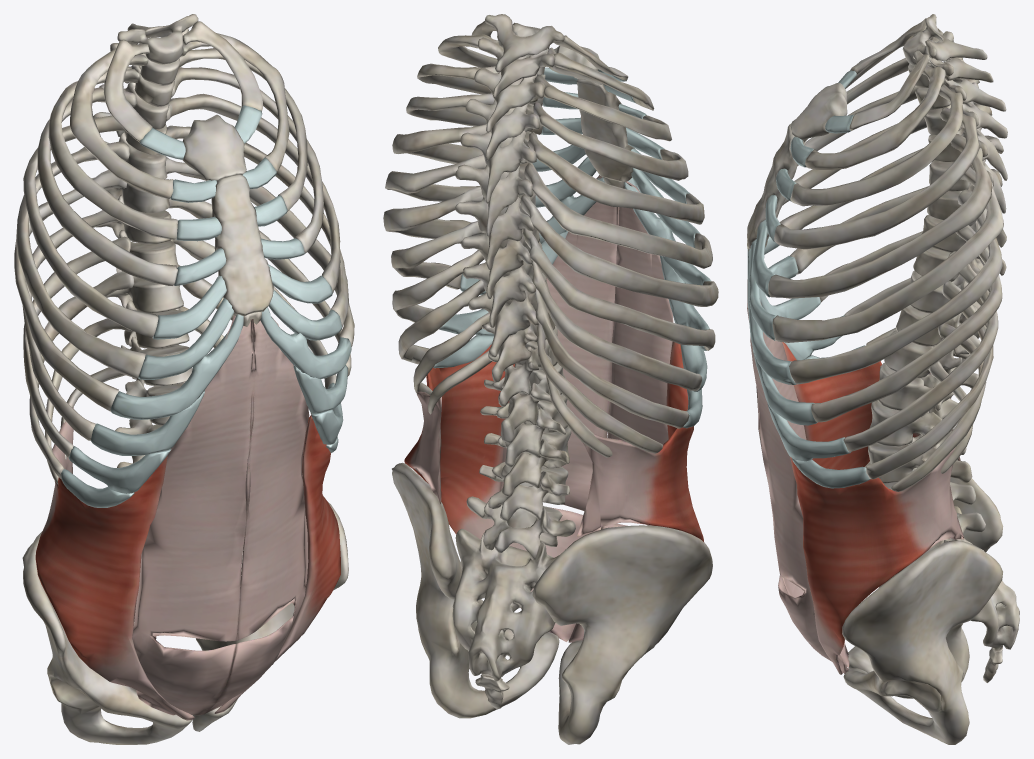
File: abs-deep.glb
3 renders of one model, left to right at view 1: azimuth 30°, elevation 25°; view 2: azimuth 150°, elevation 25°; view 3: azimuth 270°, elevation 25°, orthographic. The views are drawn at different scales.
Parts seen in each view (by area): view 1: Right_transversus_abdominis_aponeurosis, Left_transversus_abdominis_aponeurosis, Right_transversus_abdominis, Right_hip_bone__os_coxa_or_innominate_bone_, Left_transversus_abdominis, Body_of_sternum, Right_6th_rib, Right_4th_rib, Right_5th_rib, Right_3rd_rib, Right_2nd_rib, Right_7th_rib (+47 smaller); view 2: Right_hip_bone__os_coxa_or_innominate_bone_, Left_hip_bone__os_coxa_or_innominate_bone_, Sacrum, Left_transversus_abdominis, Right_transversus_abdominis, Left_transversus_abdominis_aponeurosis, Right_transversus_abdominis_aponeurosis, Right_7th_rib, Right_6th_rib, Right_8th_rib, Right_5th_rib, Right_9th_rib (+48 smaller); view 3: Left_hip_bone__os_coxa_or_innominate_bone_, Left_transversus_abdominis, Left_transversus_abdominis_aponeurosis, Left_6th_rib, Left_5th_rib, Left_7th_rib, Left_4th_rib, Right_transversus_abdominis, Left_8th_rib, Left_3rd_rib, Left_9th_rib, Left_2nd_rib (+43 smaller).
Boxes of the visible parts, x1,y1,x2,y2 form: Right_transversus_abdominis_aponeurosis: [132, 315, 255, 715]; Left_transversus_abdominis_aponeurosis: [204, 317, 309, 713]; Right_transversus_abdominis: [35, 407, 194, 720]; Right_hip_bone__os_coxa_or_innominate_bone_: [22, 531, 192, 744]; Left_transversus_abdominis: [214, 415, 340, 713]; Body_of_sternum: [211, 174, 273, 316]; Right_6th_rib: [16, 141, 145, 378]; Right_4th_rib: [37, 87, 177, 285]; Right_5th_rib: [23, 115, 158, 338]; Right_3rd_rib: [48, 69, 177, 239]; Right_2nd_rib: [70, 48, 173, 199]; Right_7th_rib: [14, 170, 127, 411]; Right_hip_bone__os_coxa_or_innominate_bone_: [532, 525, 712, 744]; Left_hip_bone__os_coxa_or_innominate_bone_: [392, 462, 559, 718]; Sacrum: [452, 528, 559, 681]; Left_transversus_abdominis: [404, 344, 514, 539]; Right_transversus_abdominis: [577, 341, 704, 542]; Left_transversus_abdominis_aponeurosis: [500, 175, 619, 641]; Right_transversus_abdominis_aponeurosis: [568, 181, 673, 642]; Right_7th_rib: [520, 194, 718, 306]; Right_6th_rib: [524, 163, 712, 268]; Right_8th_rib: [523, 228, 715, 350]; Right_5th_rib: [527, 132, 704, 224]; Right_9th_rib: [531, 261, 701, 390]; Left_hip_bone__os_coxa_or_innominate_bone_: [842, 540, 1002, 744]; Left_transversus_abdominis: [790, 447, 964, 674]; Left_transversus_abdominis_aponeurosis: [747, 284, 848, 673]; Left_6th_rib: [772, 167, 1003, 342]; Left_5th_rib: [768, 134, 992, 298]; Left_7th_rib: [789, 189, 1002, 384]; Left_4th_rib: [774, 107, 979, 249]; Right_transversus_abdominis: [782, 342, 960, 469]; Left_8th_rib: [811, 225, 1002, 422]; Left_3rd_rib: [790, 84, 963, 206]; Left_9th_rib: [843, 251, 998, 452]; Left_2nd_rib: [805, 65, 945, 170].
Bounding box in the file's own units: 0.2836 × 0.6221 × 0.2232.
Materials: 72 (72 with a texture image).
